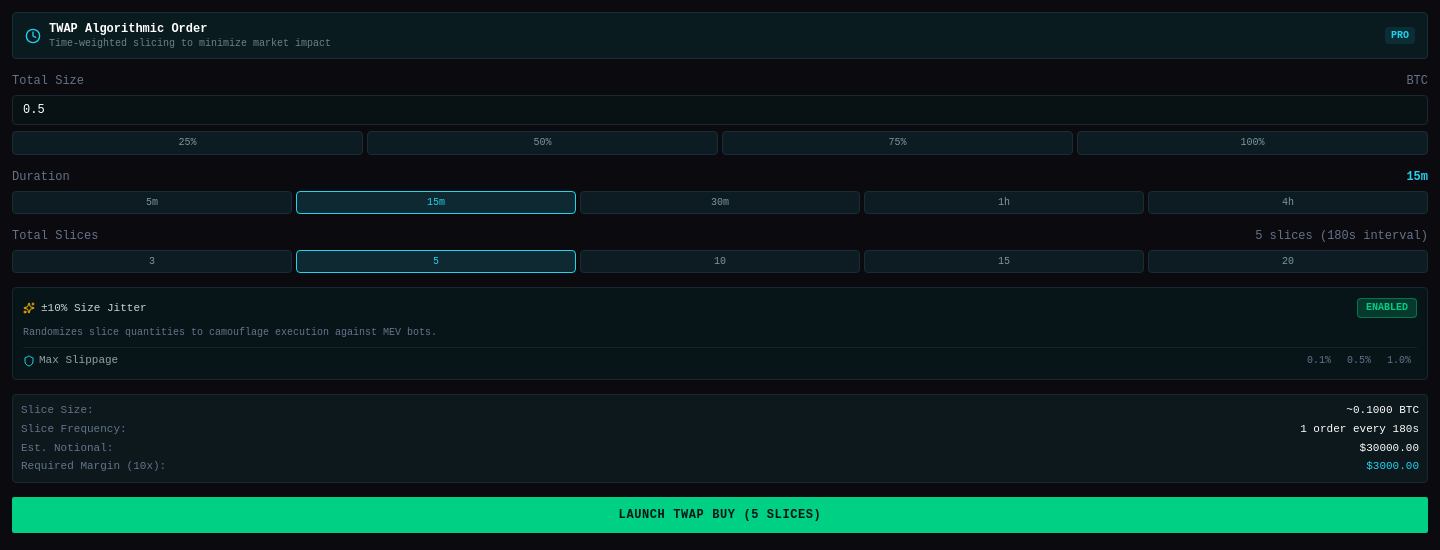
TWAPOrderForm › calculates slice frequency and telemetry accurately
Replace the text in the number field with test id "twap-total-size-input" with "1.0" at (720, 110), box [12,95,1428,125]
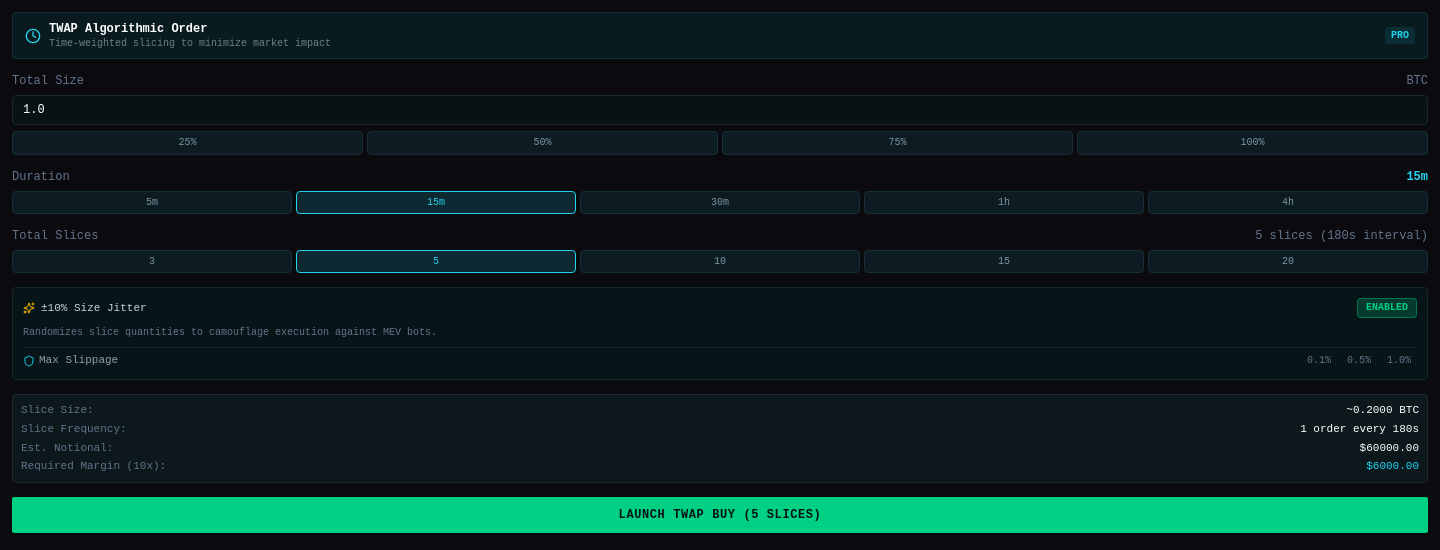
expect the text "~0.2000 BTC" is shown: met, box [1346,403,1419,418]
expect the text "$60000.00" is shown: met, box [1360,441,1419,455]
expect the text "$6000.00" is shown: met, box [1366,459,1419,474]
